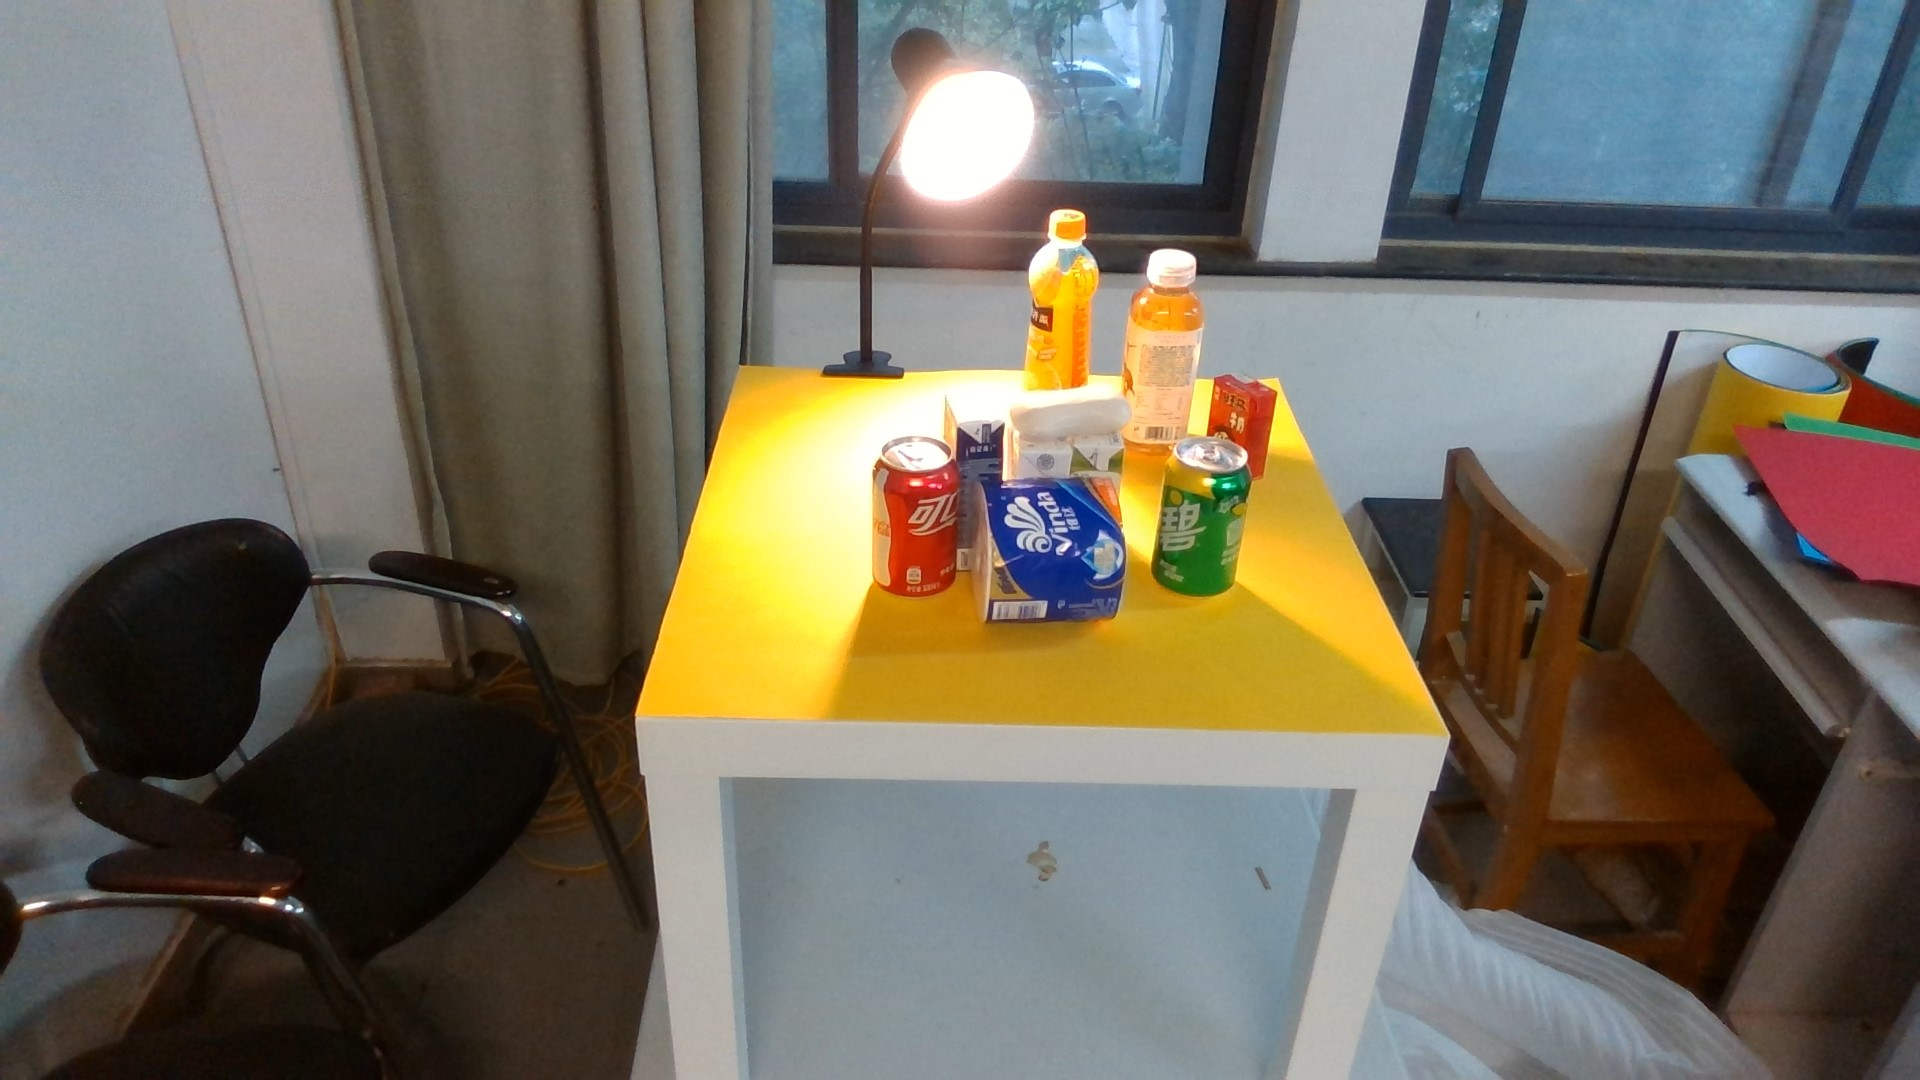BB003: (1011, 388, 1126, 440)
BB009: (1072, 446, 1122, 473)
BB010: (957, 394, 1005, 477)
BB012: (1211, 367, 1275, 435)
BB013: (1013, 444, 1069, 473)
CA002: (972, 473, 1127, 622)
ZC001: (1150, 435, 1251, 599)
ZC002: (876, 434, 963, 603)
ZC006: (1023, 204, 1102, 389)
ZC012: (1127, 249, 1204, 438)
